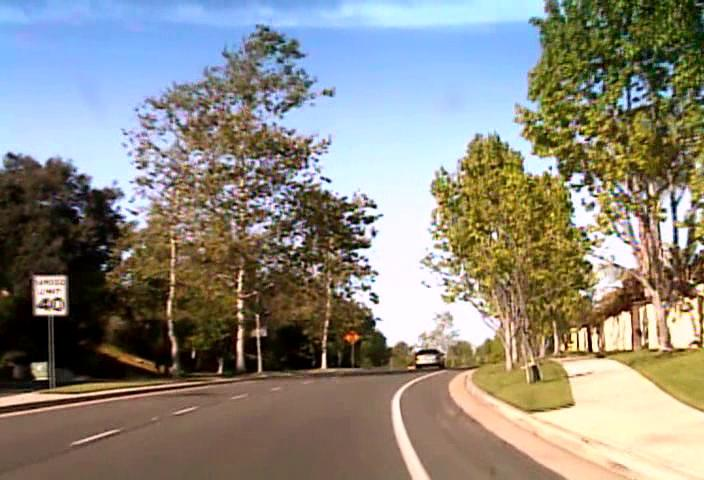speedLimit40: (32, 273, 67, 316)
